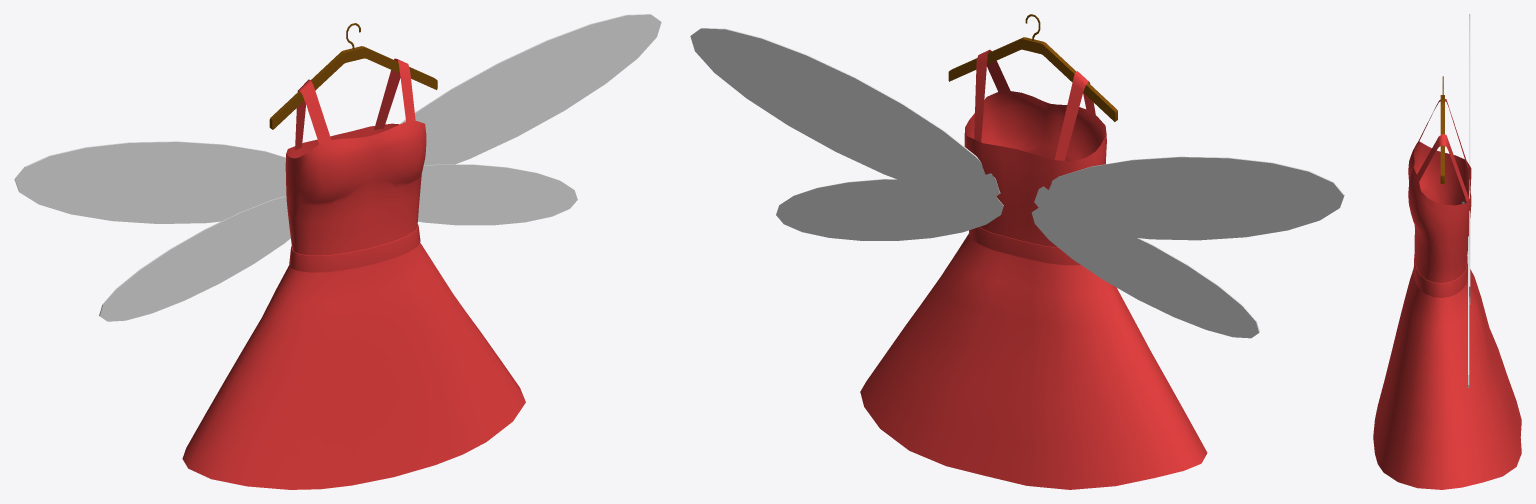
File: dress_NN_v2.fbx
3 renders of one model, left to right at view 1: azimuth 30°, elevation 25°; view 2: azimuth 150°, elevation 25°; view 3: azimuth 270°, elevation 25°, orthographic. The views are drawn at different scales.
Parts seen in each view (by area): view 1: dress_NN, wings_NN, hanger_NN; view 2: dress_NN, wings_NN, hanger_NN; view 3: dress_NN, wings_NN, hanger_NN.
Part boxes in pixels (box(x1,y1,x2,y2)): dress_NN: box(182, 58, 525, 489); wings_NN: box(14, 14, 661, 321); hanger_NN: box(269, 23, 437, 129); dress_NN: box(860, 49, 1207, 489); wings_NN: box(690, 28, 1344, 338); hanger_NN: box(948, 14, 1117, 121); dress_NN: box(1373, 99, 1521, 489); wings_NN: box(1468, 14, 1470, 387); hanger_NN: box(1440, 76, 1444, 183).
Bounding box in the file's own units: 0.9756 × 0.6106 × 0.2283.
